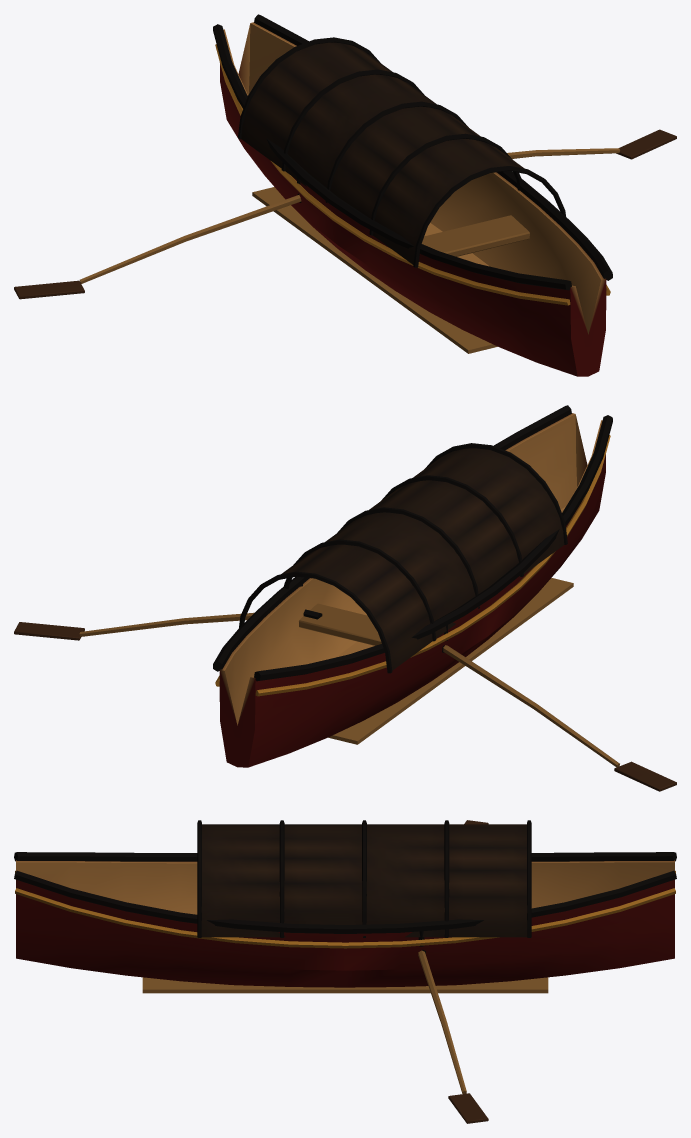
Rendered from hz-boat-rowing.glb.
3 views of the same model, one above another, from view 1: azimuth 30°, elevation 25°; view 2: azimuth 150°, elevation 25°; view 3: azimuth 270°, elevation 25° (orthographic). The views are drawn at different scales.
Visible parts, largest first — view 1: canopy__bamboo, hull__lacquer, trim__wood, seats__wood, oar-l__wood, oar-r__wood; view 2: canopy__bamboo, hull__lacquer, trim__wood, seats__wood, oar-l__wood, oar-r__wood; view 3: hull__lacquer, canopy__bamboo, trim__wood, seats__wood, oar-r__wood.
Part boxes in pixels (<box>): canopy__bamboo: <box>238,37,565,267</box>; hull__lacquer: <box>220,22,606,376</box>; trim__wood: <box>213,14,612,305</box>; seats__wood: <box>252,187,529,353</box>; oar-l__wood: <box>14,193,301,299</box>; oar-r__wood: <box>507,129,676,159</box>; canopy__bamboo: <box>239,443,567,673</box>; hull__lacquer: <box>219,413,605,767</box>; trim__wood: <box>213,405,612,696</box>; seats__wood: <box>299,578,573,744</box>; oar-l__wood: <box>442,645,676,791</box>; oar-r__wood: <box>14,609,322,640</box>; hull__lacquer: <box>16,860,674,987</box>; canopy__bamboo: <box>197,820,531,937</box>; trim__wood: <box>14,852,676,948</box>; seats__wood: <box>142,977,548,993</box>; oar-r__wood: <box>418,949,488,1123</box>.
Bounding box in the file's own units: 5.63 × 1.27 × 5.23.
